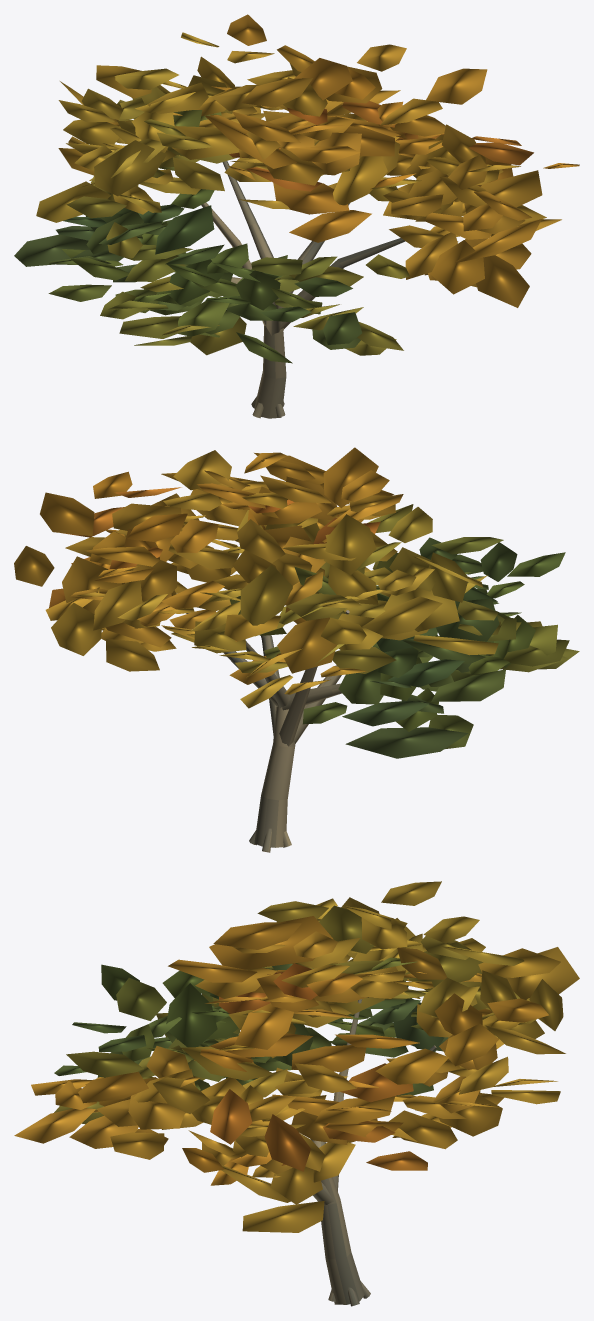
Rendered from ART_MoatTree_Broad.lod.glb.
3 renders of one model, top to bottom at view 1: azimuth 30°, elevation 25°; view 2: azimuth 150°, elevation 25°; view 3: azimuth 270°, elevation 25°, orthographic. The views are drawn at different scales.
Visible parts, largest first — view 1: ART_MoatTree_Broad; view 2: ART_MoatTree_Broad; view 3: ART_MoatTree_Broad.
Part boxes in pixels (x1,y1,x2,y2): ART_MoatTree_Broad: (14, 14, 579, 418); ART_MoatTree_Broad: (14, 447, 579, 852); ART_MoatTree_Broad: (14, 881, 579, 1306).
Bounding box in the file's own units: 11.39 × 7.97 × 11.46.
